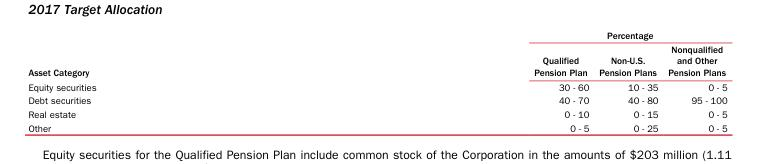table: (27, 29, 726, 132)
table column: (27, 29, 314, 132), (314, 29, 593, 132), (593, 29, 662, 132), (662, 29, 726, 132)
table column header: (27, 29, 726, 79)
table row: (27, 41, 726, 79), (27, 79, 726, 93), (27, 106, 726, 120), (27, 93, 726, 106), (27, 29, 726, 41), (27, 120, 726, 132)
table spanning cell: (27, 29, 314, 79), (314, 29, 726, 41)
